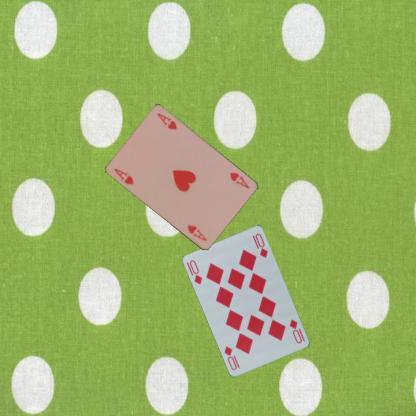10d: (287, 316, 306, 346), (186, 258, 204, 286)
Ah: (112, 166, 136, 186), (228, 170, 250, 190)
